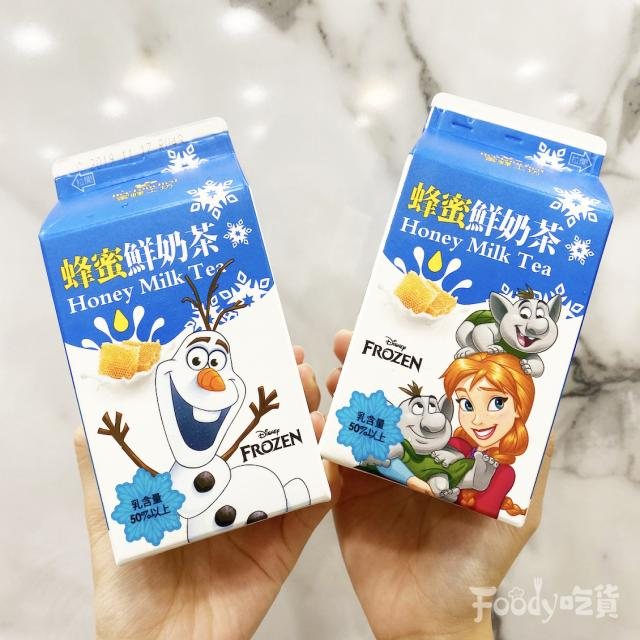non_white_jug: (22, 101, 346, 578), (298, 75, 622, 545)
